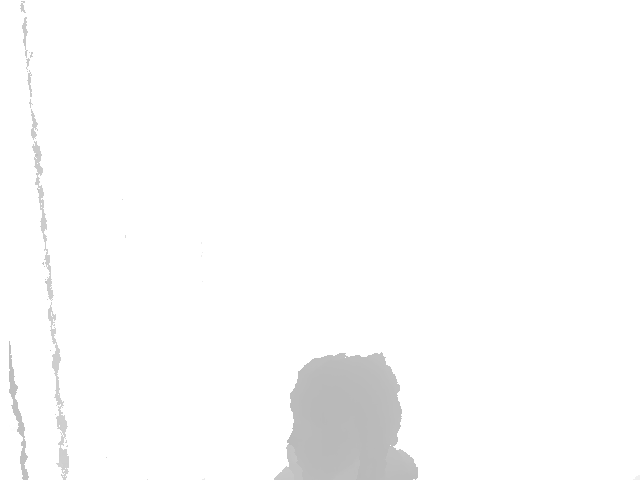person: (271, 352, 420, 480)
